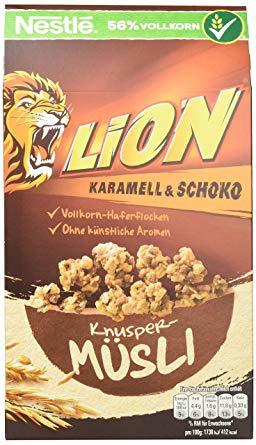cereals: (4, 4, 256, 441)
